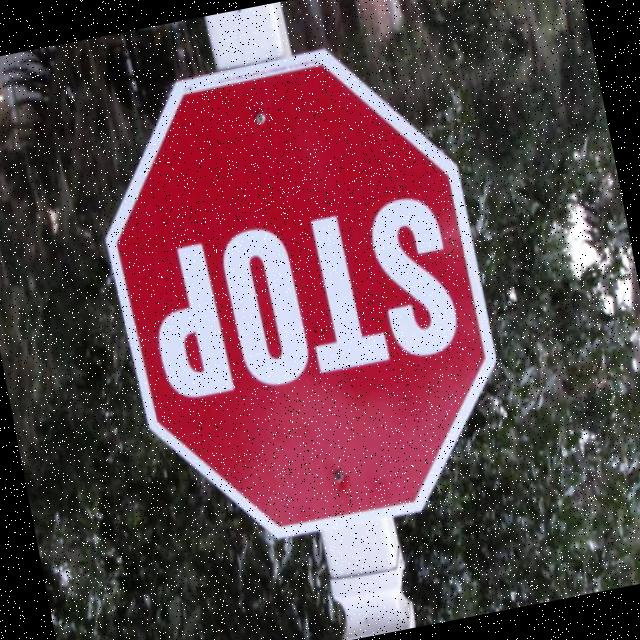stop: (73, 16, 534, 567)
